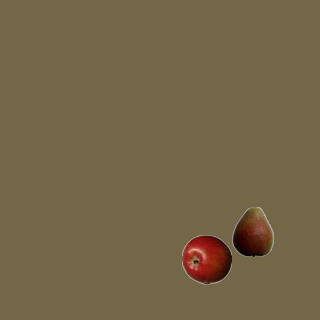Apple Braeburn: (181, 234, 231, 284)
Pear Forelle: (227, 206, 277, 256)
